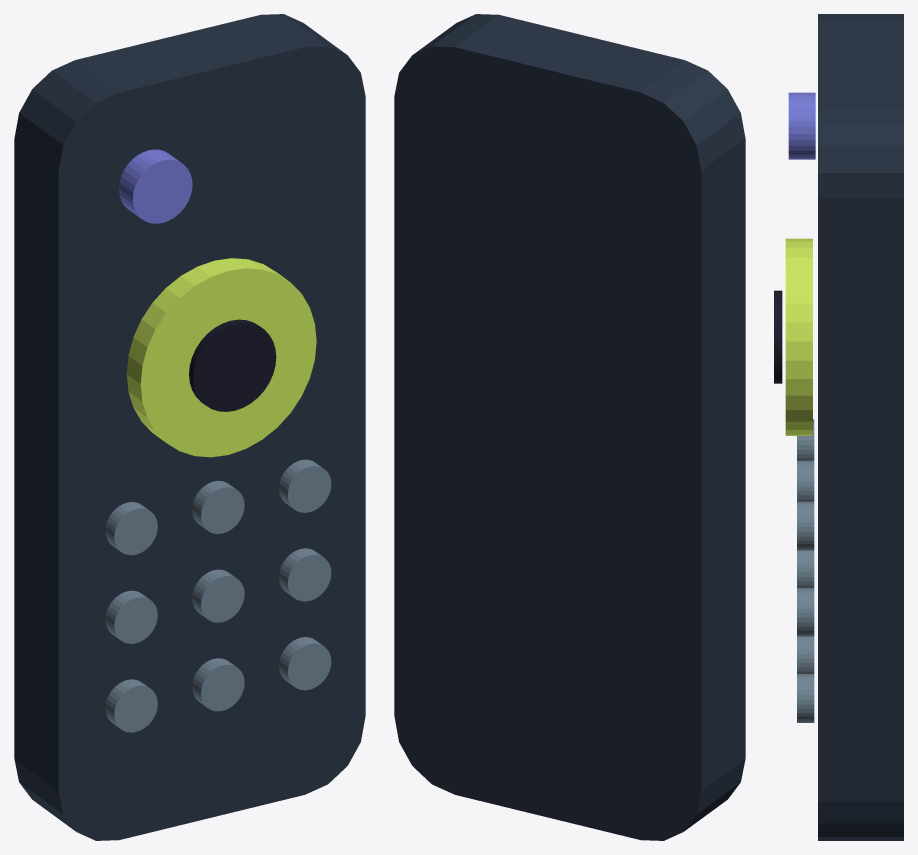
The model's file is remote.glb.
The picture shows the model from 3 angles, left to right: view 1: azimuth 30°, elevation 25°; view 2: azimuth 150°, elevation 25°; view 3: azimuth 270°, elevation 25°; orthographic projection. The views are drawn at different scales.
Parts seen in each view (by area): view 1: housing, direction ring, ok button, power key, key 1-2, key 0-2, key 1-1, key 0-1, key 2-1, key 0-0, key 2-0, key 1-0 (+1 smaller); view 2: housing; view 3: housing, direction ring, power key, key 2-0, key 2-1, key 2-2, ok button, key 1-0, key 1-1, key 1-2, key 0-0.
Boxes of the visible parts, <box> form: housing: <box>14,14,365,840</box>; direction ring: <box>126,258,316,457</box>; ok button: <box>189,319,276,411</box>; power key: <box>119,149,192,223</box>; key 1-2: <box>192,658,244,711</box>; key 0-2: <box>105,679,157,732</box>; key 1-1: <box>192,569,244,622</box>; key 0-1: <box>105,590,157,643</box>; key 2-1: <box>279,548,331,601</box>; key 0-0: <box>105,502,157,555</box>; key 2-0: <box>279,459,331,512</box>; key 1-0: <box>192,480,244,533</box>; housing: <box>394,14,745,840</box>; housing: <box>818,14,903,840</box>; direction ring: <box>785,238,812,435</box>; power key: <box>788,92,815,159</box>; key 2-0: <box>797,501,814,550</box>; key 2-1: <box>797,588,814,636</box>; key 2-2: <box>797,674,814,722</box>; ok button: <box>774,290,782,383</box>; key 1-0: <box>797,460,814,501</box>; key 1-1: <box>797,550,814,587</box>; key 1-2: <box>797,636,814,673</box>; key 0-0: <box>797,419,814,460</box>.
Size of the model in its own units: 0.76 by 1.77 by 0.287.
